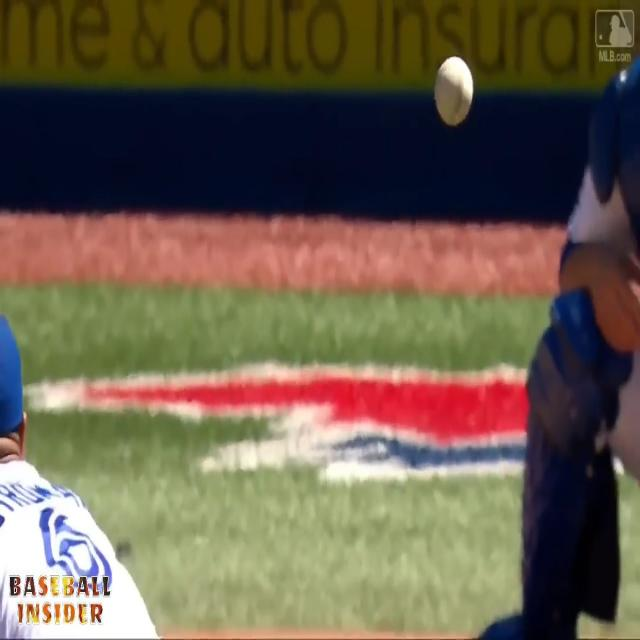baseball: (437, 54, 472, 124)
